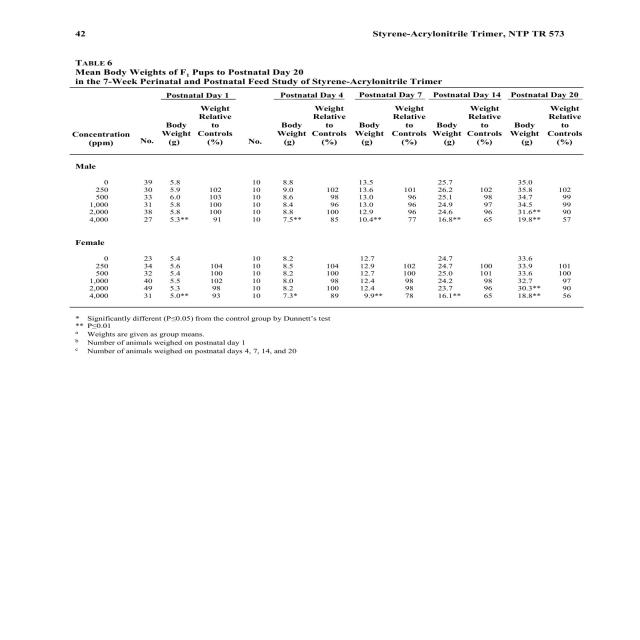table: (72, 90, 581, 298)
